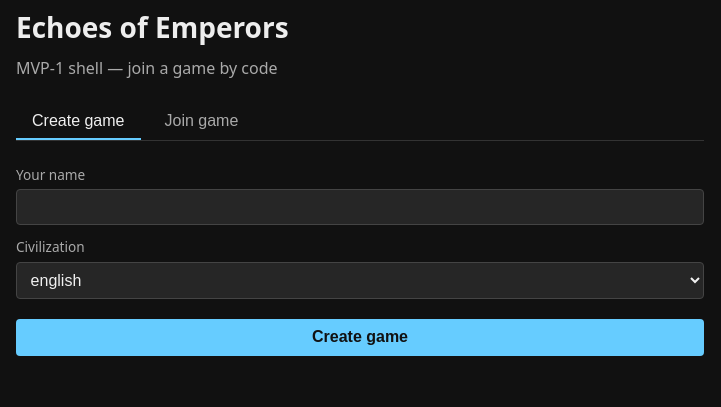
Test case: <Home /> › renders error state when the API throws
In the field labelled "Your name": (360,207) x1=16 y1=189 x2=704 y2=225, type "Lando"
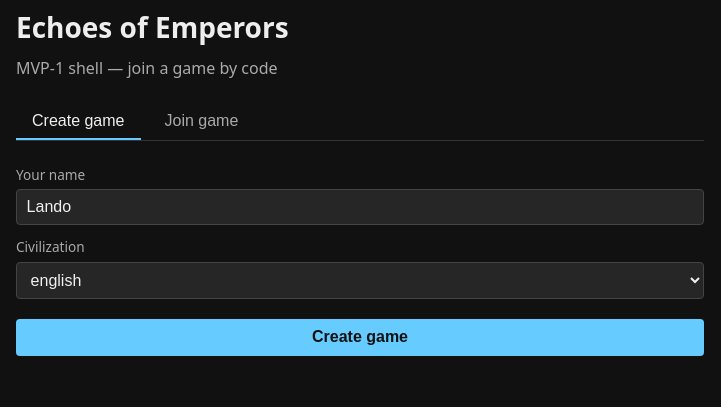
Click the button "Create game": (360,337) x1=16 y1=319 x2=704 y2=356
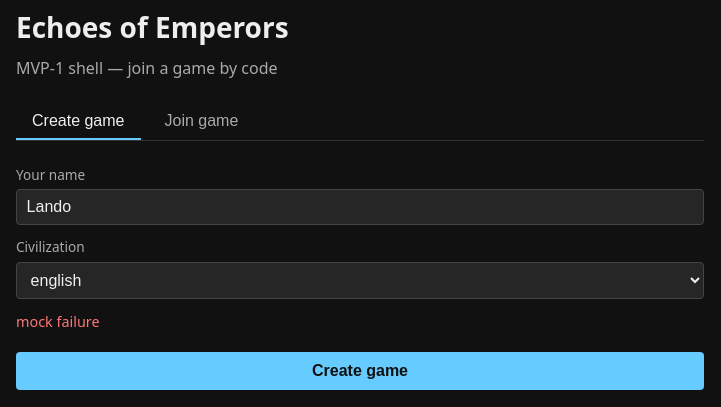
Check: the message reads "mock failure", box x1=16 y1=312 x2=100 y2=331
